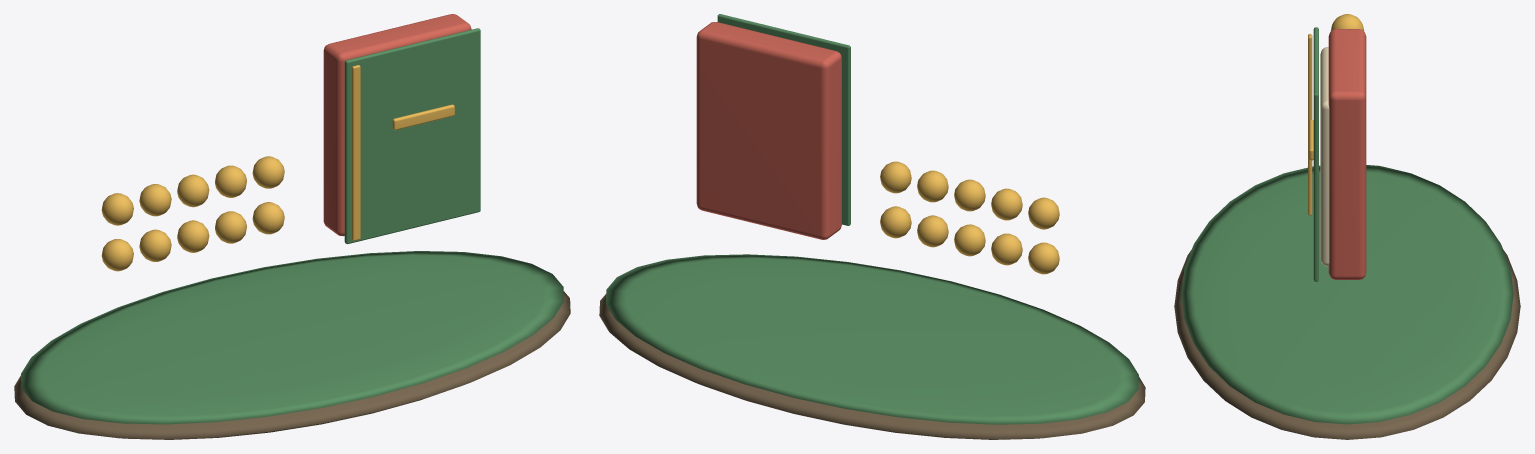
The model's file is counting-study.glb.
The picture shows the model from 3 angles, left to right: view 1: azimuth 30°, elevation 25°; view 2: azimuth 150°, elevation 25°; view 3: azimuth 270°, elevation 25°; orthographic projection. The views are drawn at different scales.
Parts seen in each view (by area): view 1: counting-study_surface_01, counting-study_surface_02, counting-study_surface_00, counting-study_surface_03; view 2: counting-study_surface_01, counting-study_surface_03, counting-study_surface_00, counting-study_surface_02; view 3: counting-study_surface_01, counting-study_surface_03, counting-study_surface_00, counting-study_surface_04, counting-study_surface_02.
Boxes of the visible parts, x1=… form: counting-study_surface_01: x1=21, y1=28, x2=563, y2=424; counting-study_surface_02: x1=101, y1=65, x2=454, y2=271; counting-study_surface_00: x1=14, y1=291, x2=570, y2=439; counting-study_surface_03: x1=323, y1=14, x2=471, y2=236; counting-study_surface_01: x1=606, y1=14, x2=1138, y2=424; counting-study_surface_03: x1=696, y1=22, x2=841, y2=239; counting-study_surface_00: x1=599, y1=294, x2=1145, y2=439; counting-study_surface_02: x1=880, y1=161, x2=1059, y2=274; counting-study_surface_01: x1=1181, y1=27, x2=1513, y2=424; counting-study_surface_03: x1=1328, y1=29, x2=1366, y2=279; counting-study_surface_00: x1=1174, y1=250, x2=1520, y2=439; counting-study_surface_04: x1=1320, y1=47, x2=1329, y2=266; counting-study_surface_02: x1=1308, y1=14, x2=1364, y2=215.
Bounding box in the file's own units: 4.56 × 2.51 × 2.5.
